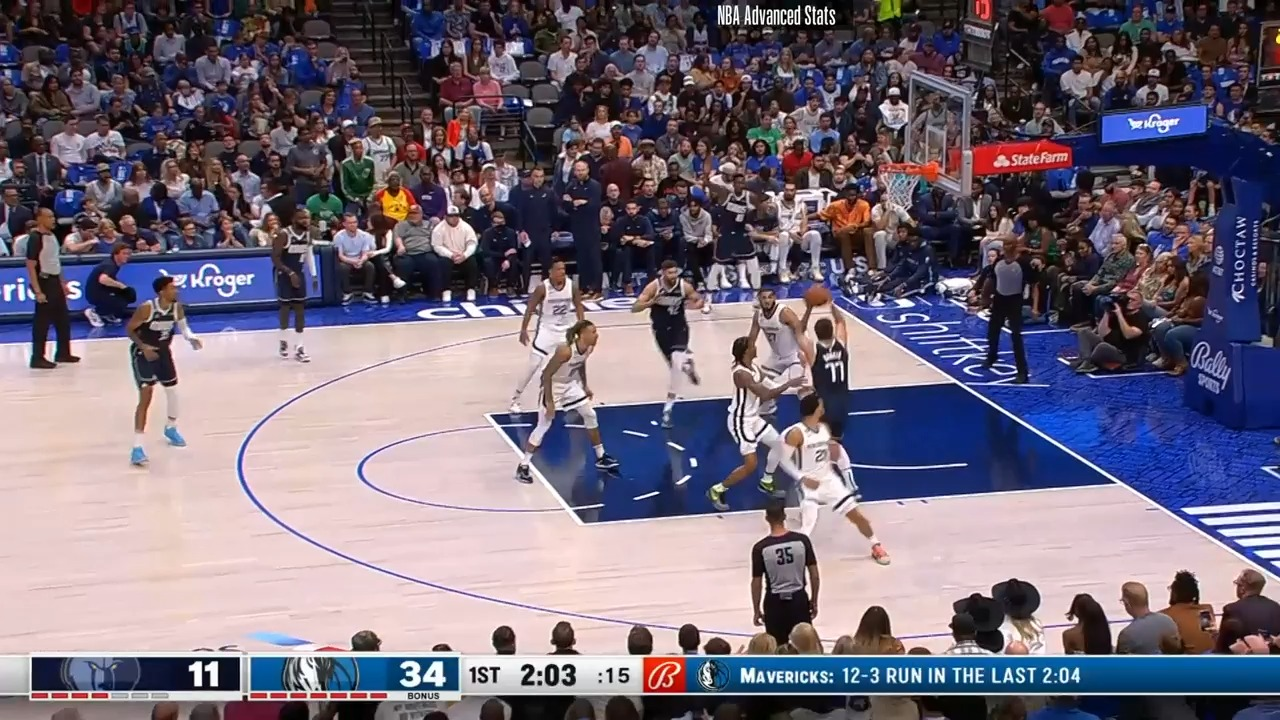net: (881, 158, 944, 212)
player: (762, 404, 898, 575), (120, 269, 205, 473), (711, 337, 802, 514), (518, 314, 613, 482), (791, 296, 862, 505), (633, 260, 716, 431), (515, 258, 592, 411), (741, 284, 814, 393), (267, 207, 316, 369), (728, 338, 787, 467)
referee: (741, 500, 820, 649), (23, 207, 81, 377), (977, 243, 1038, 387)
